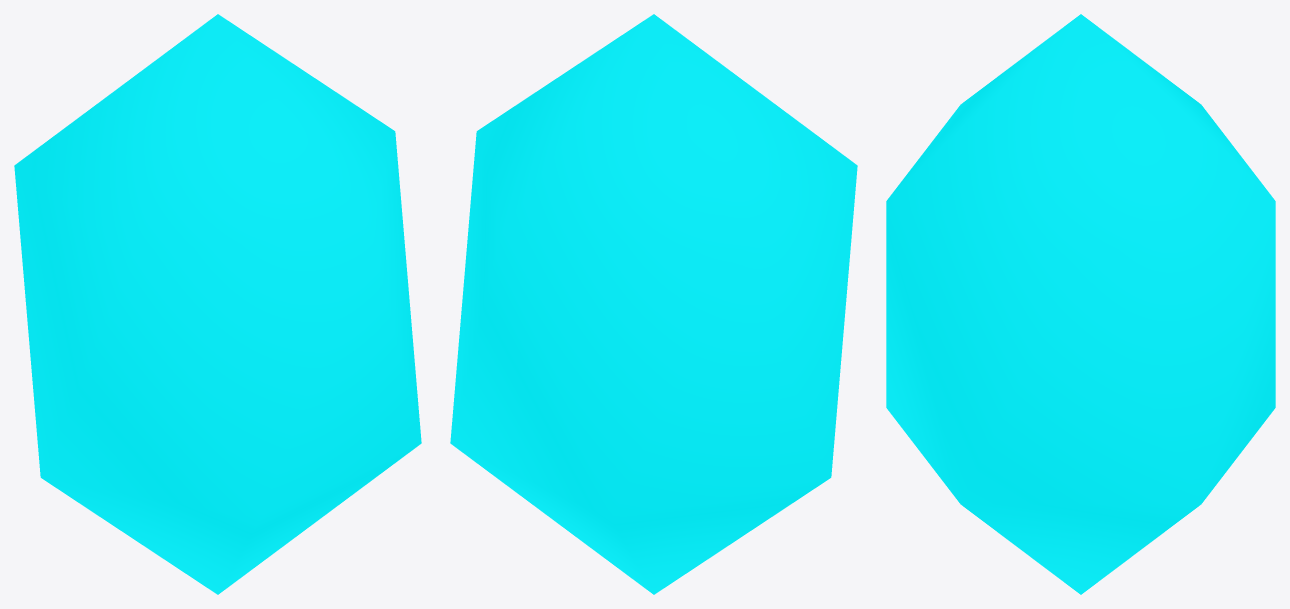
File: shape_diamond.glb
The picture shows the model from 3 angles, left to right: view 1: azimuth 30°, elevation 25°; view 2: azimuth 150°, elevation 25°; view 3: azimuth 270°, elevation 25°; orthographic projection.
Parts seen in each view (by area): view 1: Shape_Diamond; view 2: Shape_Diamond; view 3: Shape_Diamond.
Boxes of the visible parts, x1,y1,x2,y2 form: Shape_Diamond: (14, 14, 421, 594); Shape_Diamond: (450, 14, 857, 594); Shape_Diamond: (886, 14, 1275, 594).
Bounding box in the file's own units: 0.4472 × 0.7 × 0.4253.
